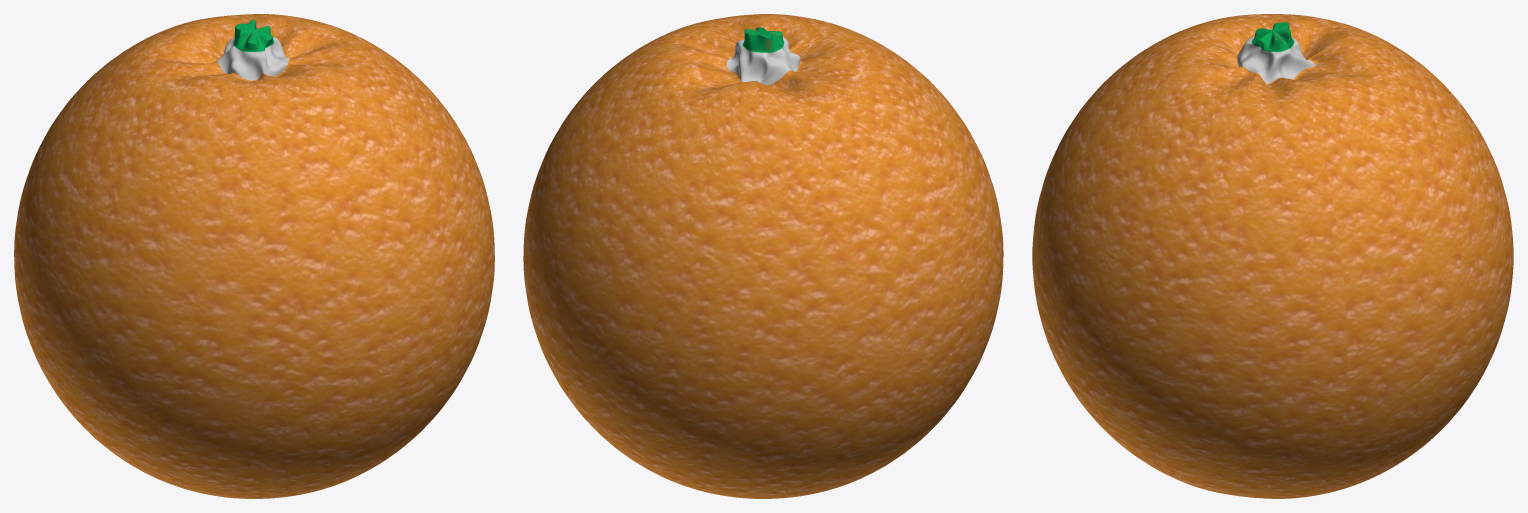
File: Orange.fbx
The picture shows the model from 3 angles, left to right: view 1: azimuth 30°, elevation 25°; view 2: azimuth 150°, elevation 25°; view 3: azimuth 270°, elevation 25°; orthographic projection.
Parts seen in each view (by area): view 1: Orange2; view 2: Orange2; view 3: Orange2.
Part boxes in pixels (box(x1,y1,x2,y2)): Orange2: box(14, 14, 494, 498); Orange2: box(523, 14, 1003, 498); Orange2: box(1032, 14, 1513, 498).
Size of the model in its own units: 1.23 by 1.23 by 1.23.
